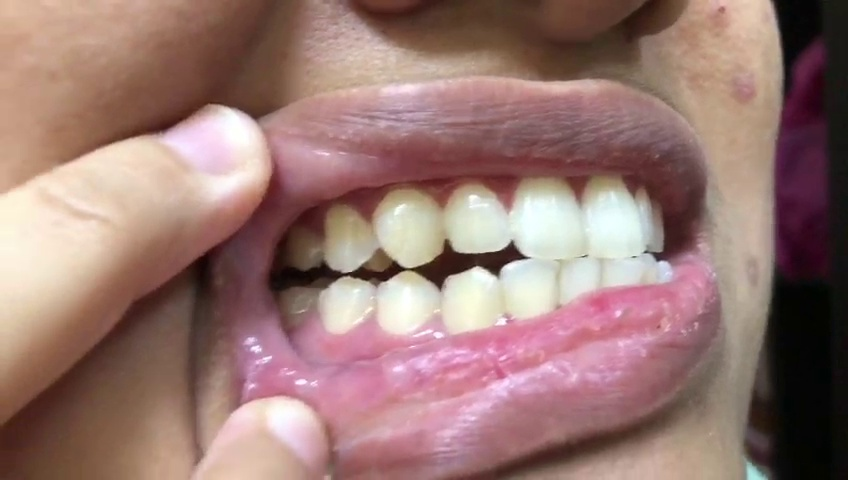1st Molar: (278, 283, 321, 330)
1st Premolar: (375, 271, 439, 334), (324, 204, 381, 273)
2nd Premolar: (318, 274, 375, 334), (286, 225, 324, 273)
Canine: (375, 187, 444, 268), (441, 266, 501, 334)
Central Incisor: (510, 176, 587, 259), (581, 174, 647, 258)
Lateral Incisor: (444, 184, 510, 254), (501, 257, 563, 323)
